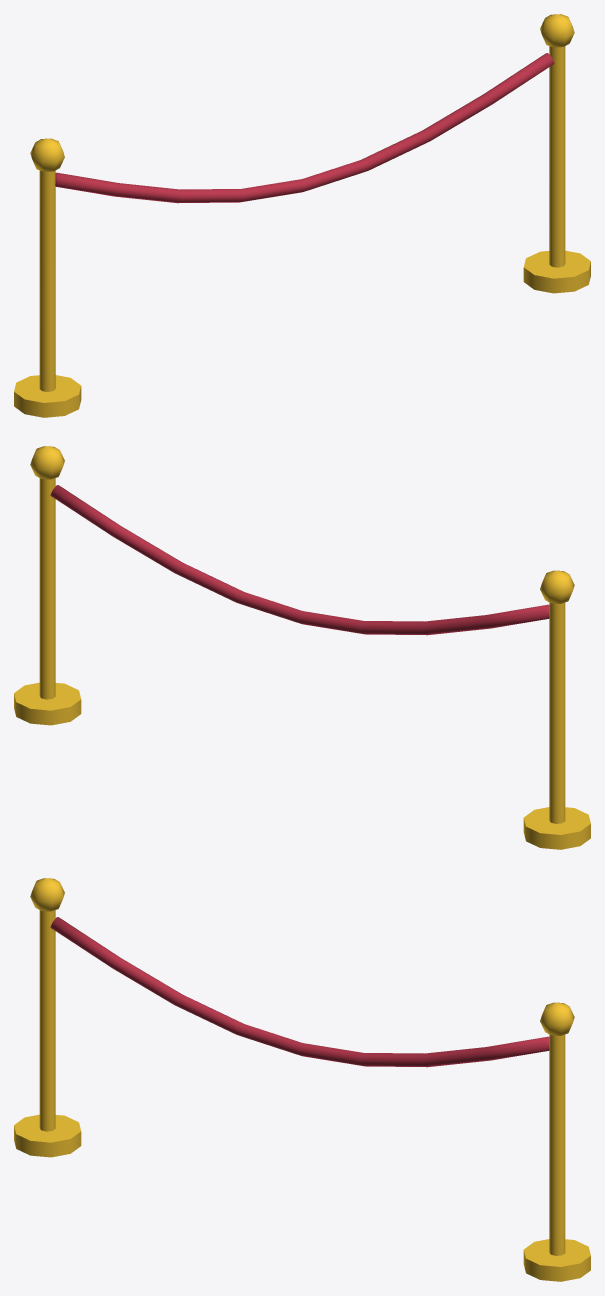
The model's file is CM_Tycoon_VIPRope.fbx.
The picture shows the model from 3 angles, top to bottom: view 1: azimuth 30°, elevation 25°; view 2: azimuth 150°, elevation 25°; view 3: azimuth 330°, elevation 25°; orthographic projection.
Parts seen in each view (by area): view 1: Body; view 2: Body; view 3: Body.
Boxes of the visible parts, x1,y1,x2,y2 form: Body: (14,14,590,417); Body: (14,446,590,849); Body: (14,878,590,1281).
Bounding box in the file's own units: 8 × 0.8412 × 3.57.
Materials: 1 (1 with a texture image).
